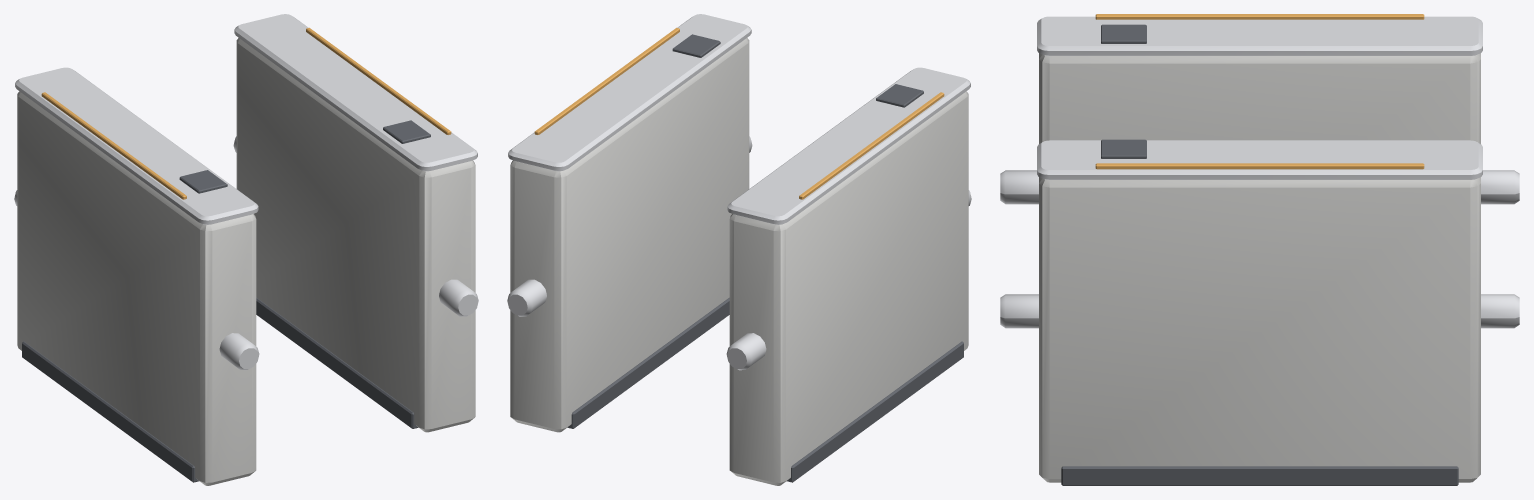
File: office-lobby-and-facilities-security-speedgate-pair-op-01114785__26151.glb
The picture shows the model from 3 angles, left to right: view 1: azimuth 30°, elevation 25°; view 2: azimuth 150°, elevation 25°; view 3: azimuth 270°, elevation 25°; orthographic projection. The views are drawn at different scales.
Visible parts, largest first — view 1: security-speedgate-pair-open; view 2: security-speedgate-pair-open; view 3: security-speedgate-pair-open.
Part boxes in pixels (x1,y1,x2,y2): security-speedgate-pair-open: (14, 14, 478, 485); security-speedgate-pair-open: (507, 14, 971, 485); security-speedgate-pair-open: (1000, 14, 1519, 485).
Bounding box in the file's own units: 1.06 × 0.994 × 1.47.
